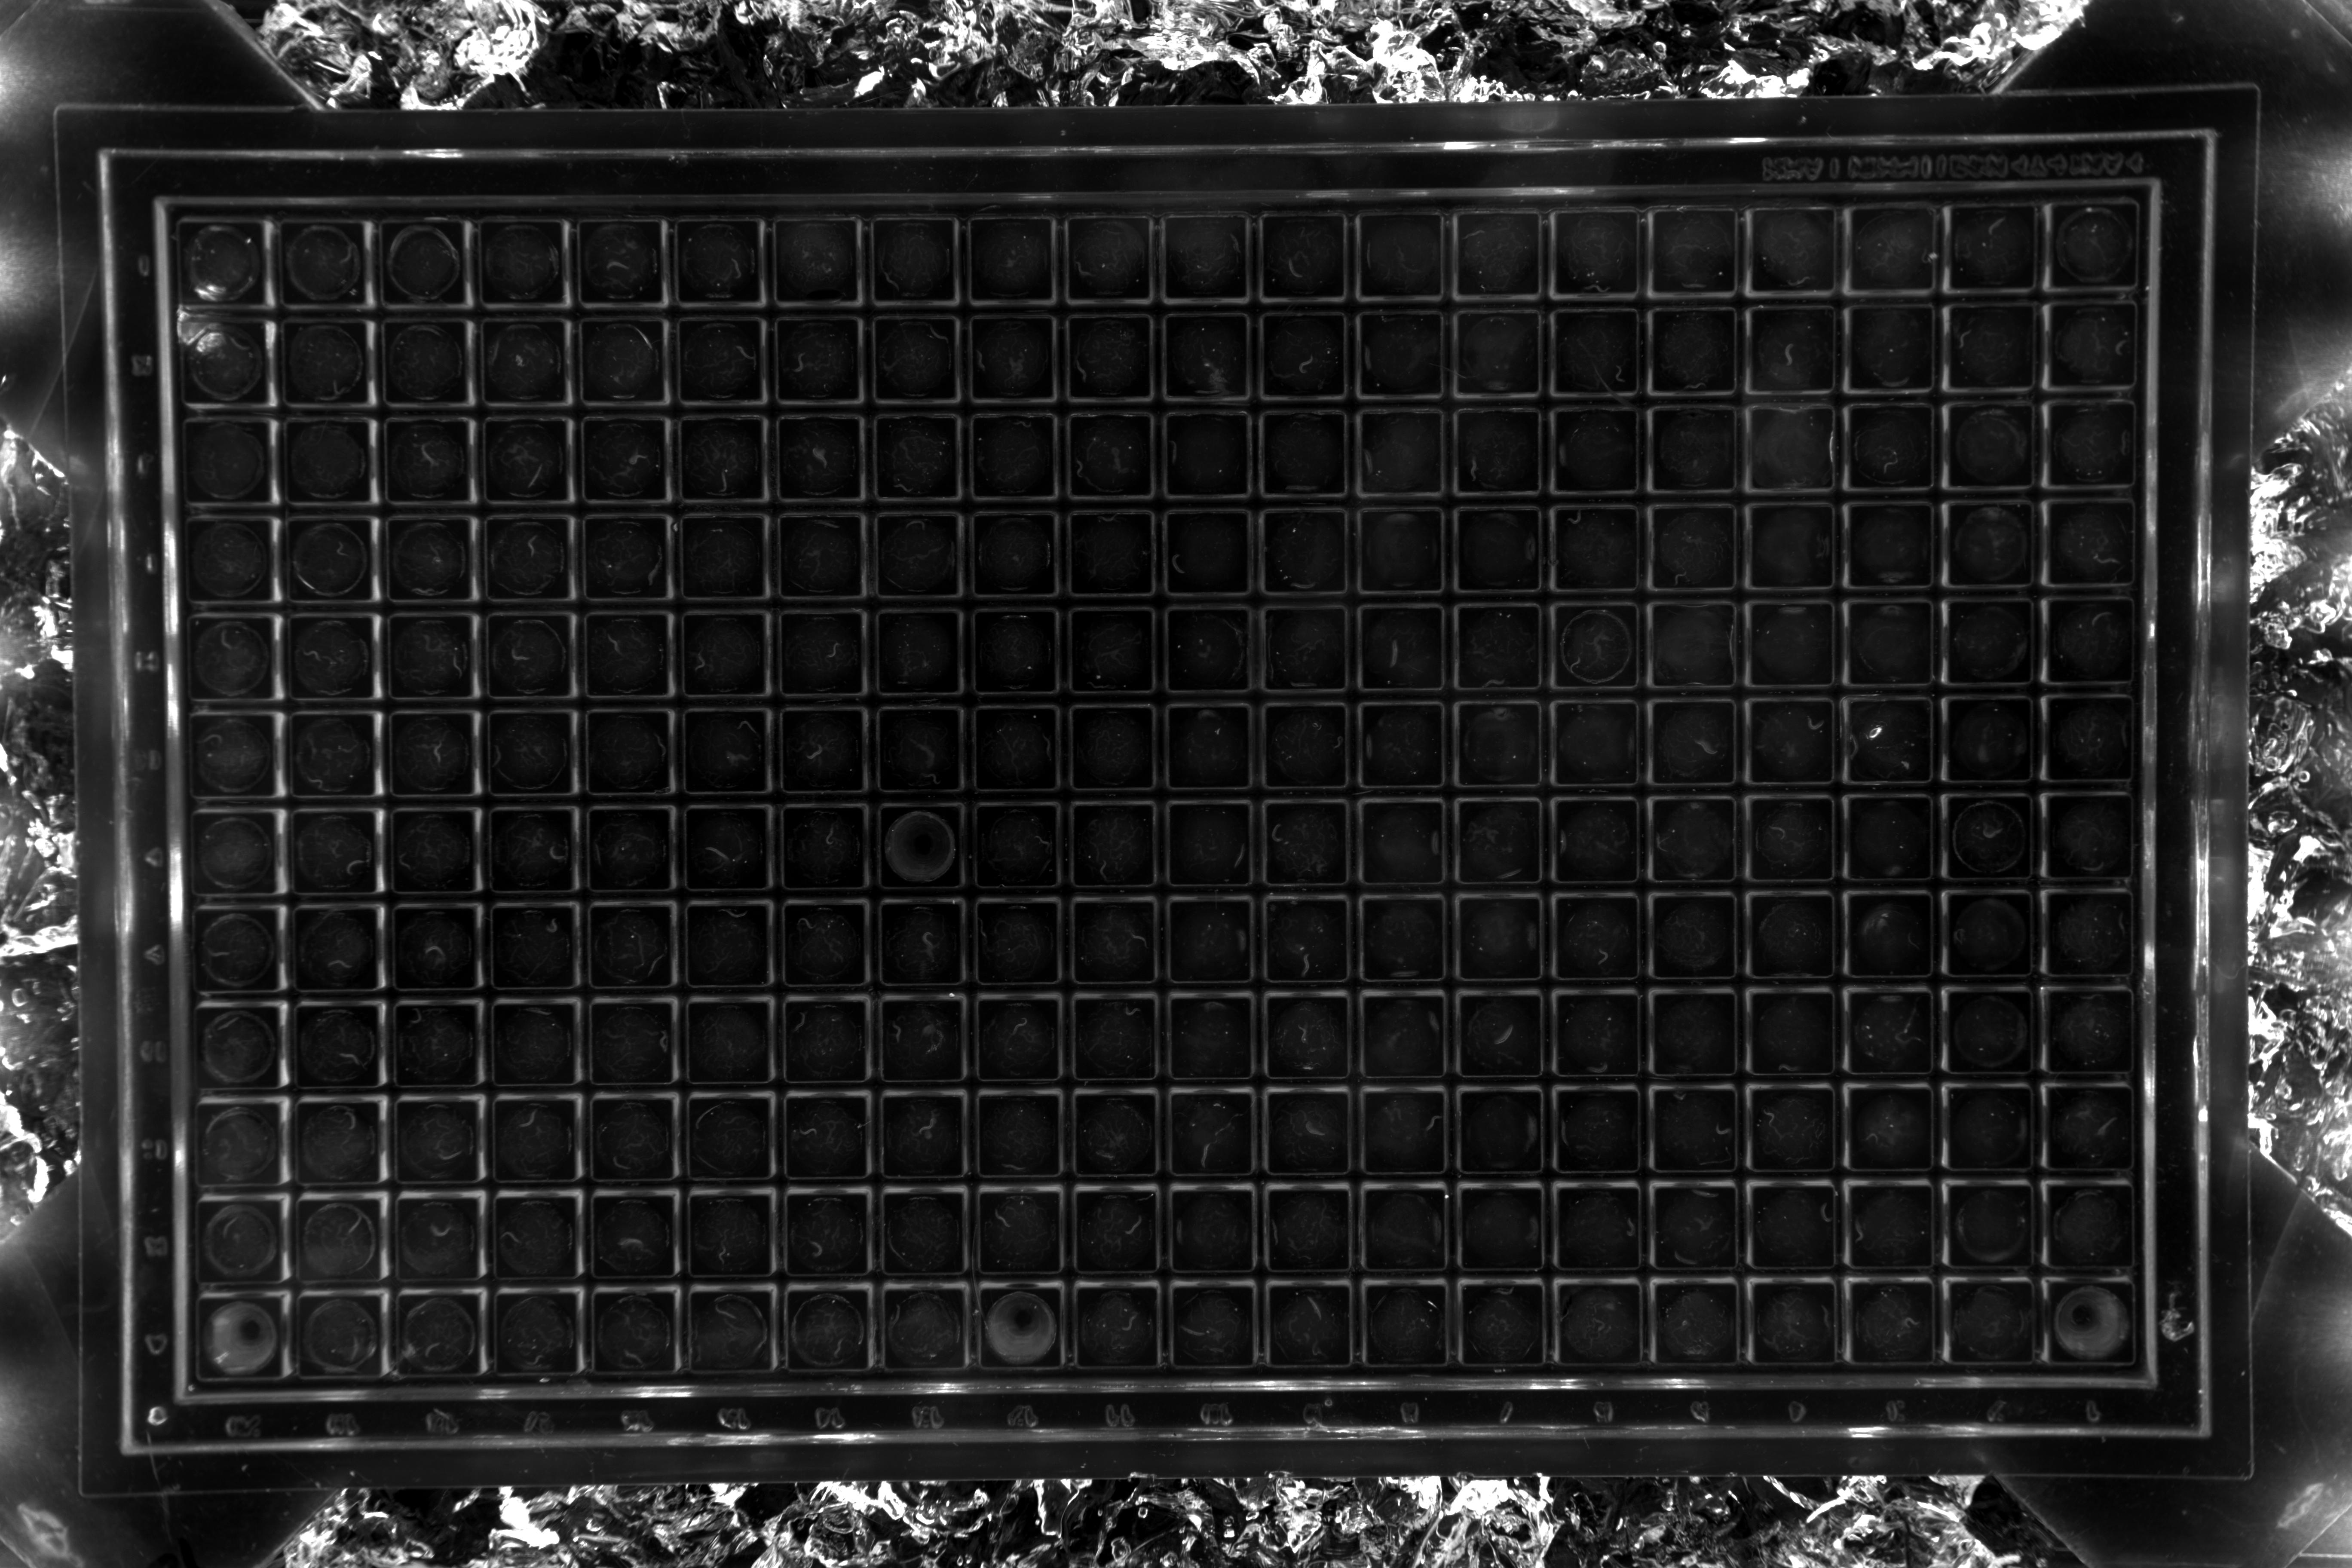WM_well: (397, 633, 486, 721), (492, 436, 581, 523), (588, 338, 677, 425), (689, 534, 779, 621), (982, 534, 1071, 621), (289, 138, 376, 226), (303, 829, 390, 917), (390, 238, 478, 325), (401, 1118, 488, 1206), (588, 240, 675, 327), (983, 1113, 1071, 1200), (1080, 1017, 1167, 1104), (1080, 1211, 1167, 1298), (1176, 1017, 1263, 1104), (1176, 920, 1263, 1008), (1274, 630, 1361, 717), (1274, 436, 1361, 523), (1368, 1017, 1456, 1104), (1370, 630, 1458, 717), (1465, 1113, 1552, 1200), (1564, 726, 1652, 814), (1860, 626, 1948, 714), (1865, 131, 1953, 219), (1956, 1213, 2044, 1300), (1958, 822, 2046, 910)
